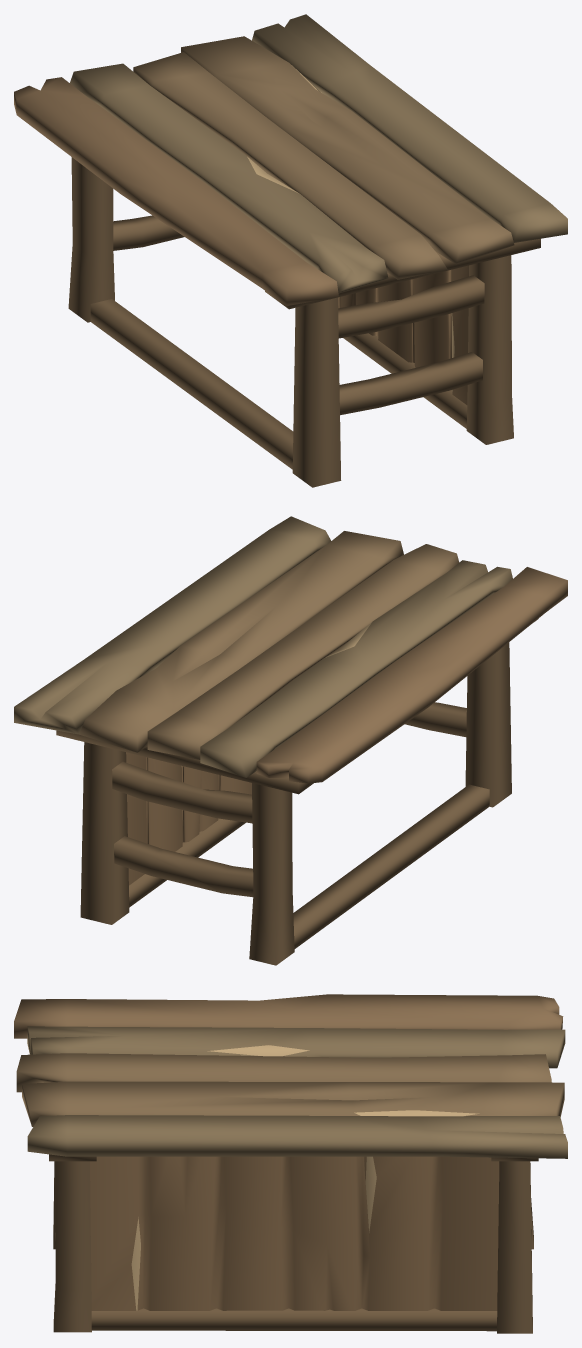
The model's file is rpgpp_ag_table_05.fbx.
3 views of the same model, one above another, from view 1: azimuth 30°, elevation 25°; view 2: azimuth 150°, elevation 25°; view 3: azimuth 270°, elevation 25° (orthographic). The views are drawn at different scales.
Parts seen in each view (by area): view 1: rpgpp_ag_table_05; view 2: rpgpp_ag_table_05; view 3: rpgpp_ag_table_05.
Boxes of the visible parts, bbox=[...] form: rpgpp_ag_table_05: bbox=[14, 14, 567, 487]; rpgpp_ag_table_05: bbox=[14, 516, 567, 965]; rpgpp_ag_table_05: bbox=[14, 994, 567, 1333].
Bounding box in the file's own units: 1.17 × 0.7981 × 1.85.
